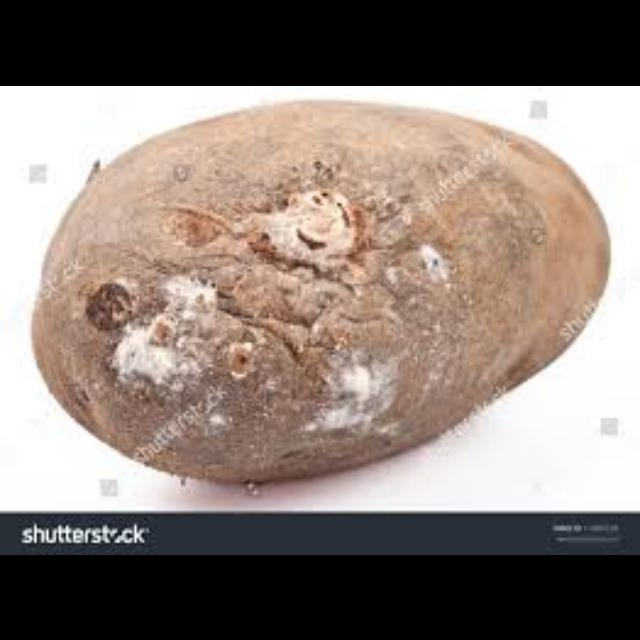Damaged potato: (48, 105, 622, 478)
